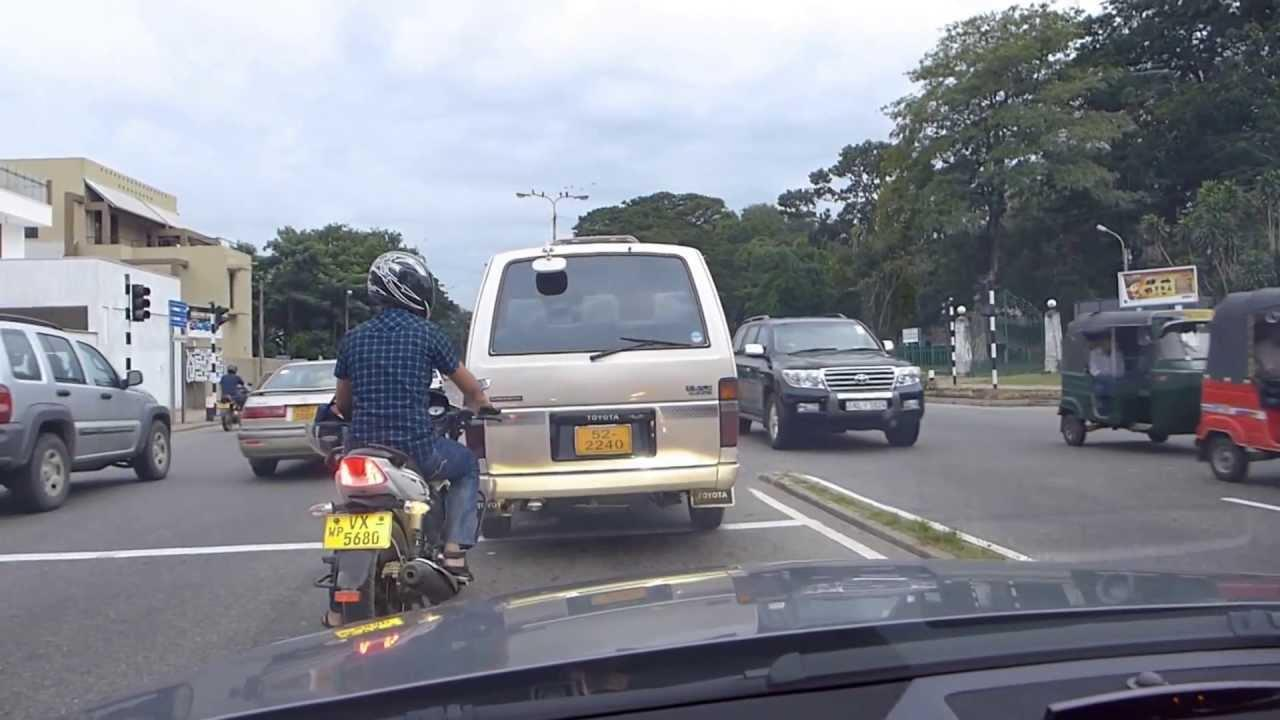license-plate: (324, 514, 389, 546), (572, 420, 631, 454)
